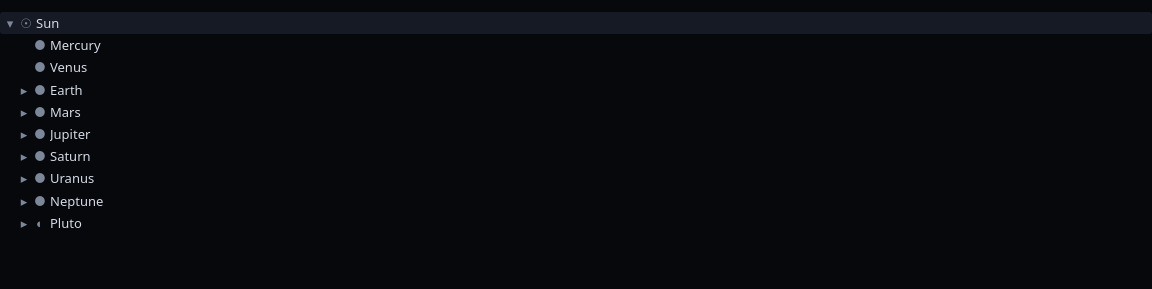
it: SystemTree › marks minor bodies
Click the text "▸" next to "Mars" at (24, 112), box [21,103,27,121]
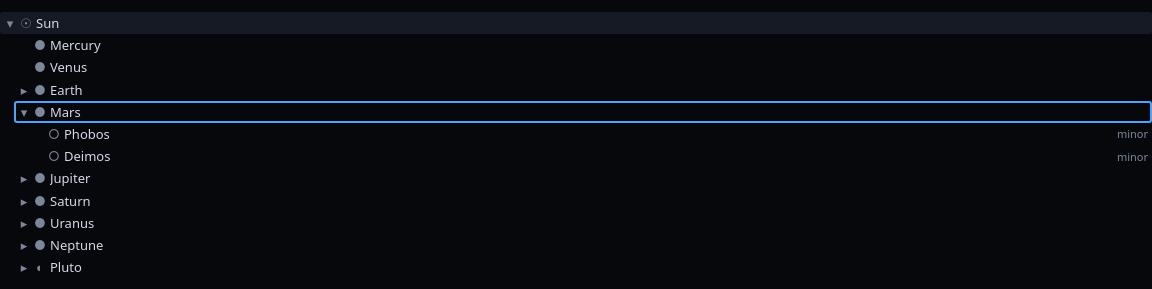
Now the text "minor" in the row of "Phobos" is shown, box [1117,126,1148,141]
Now the text "minor" is shown 2 times, box [1117,126,1148,142]; [1117,148,1148,164]
